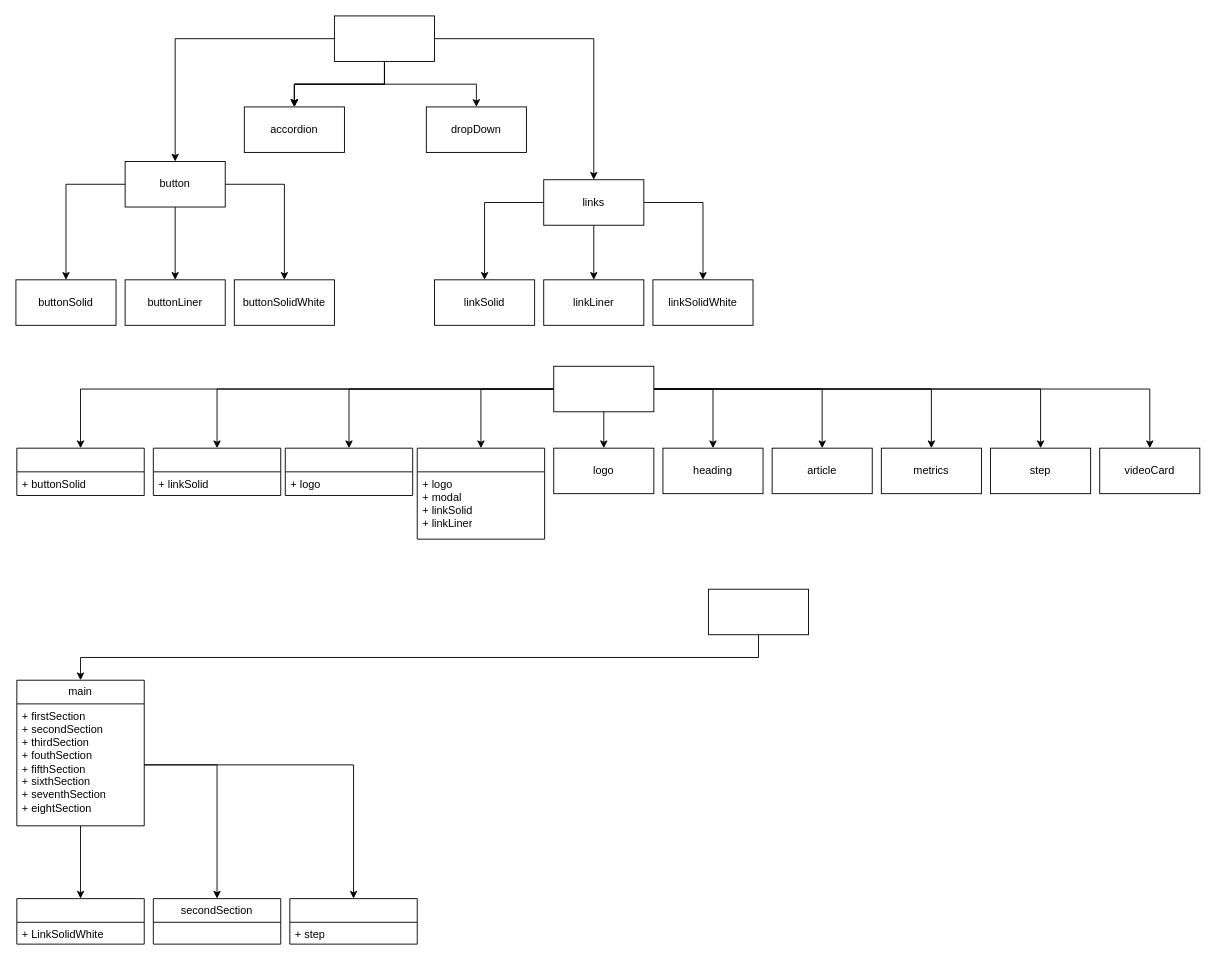
This 1216x963 diagram has some shape labels left out. Here are the shapes that lost their labels. From the top down, the box of each, then its label:
(334, 15, 435, 61): UI
(553, 365, 654, 412): components
(16, 447, 144, 495): modal
(152, 447, 281, 495): calculator
(284, 447, 413, 495): footer
(416, 447, 545, 539): header
(708, 588, 809, 635): pages
(16, 898, 144, 944): firstSection
(289, 898, 417, 944): thirdSection
